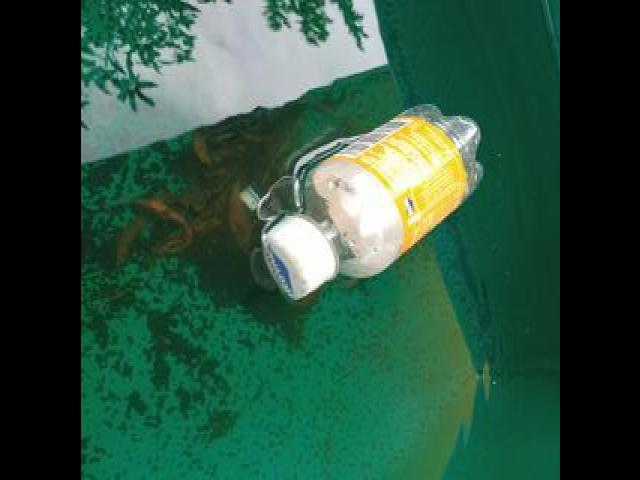Bottle: (258, 101, 482, 303)
